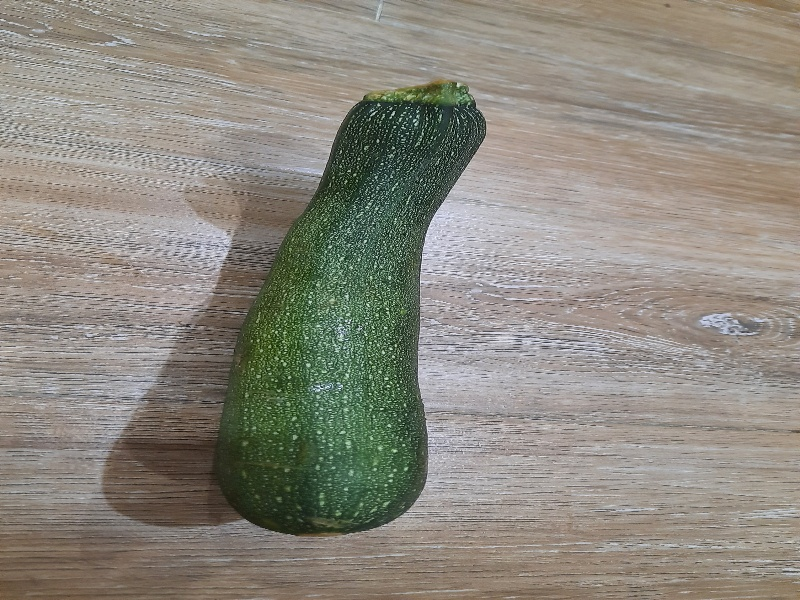vege: (220, 73, 492, 544)
